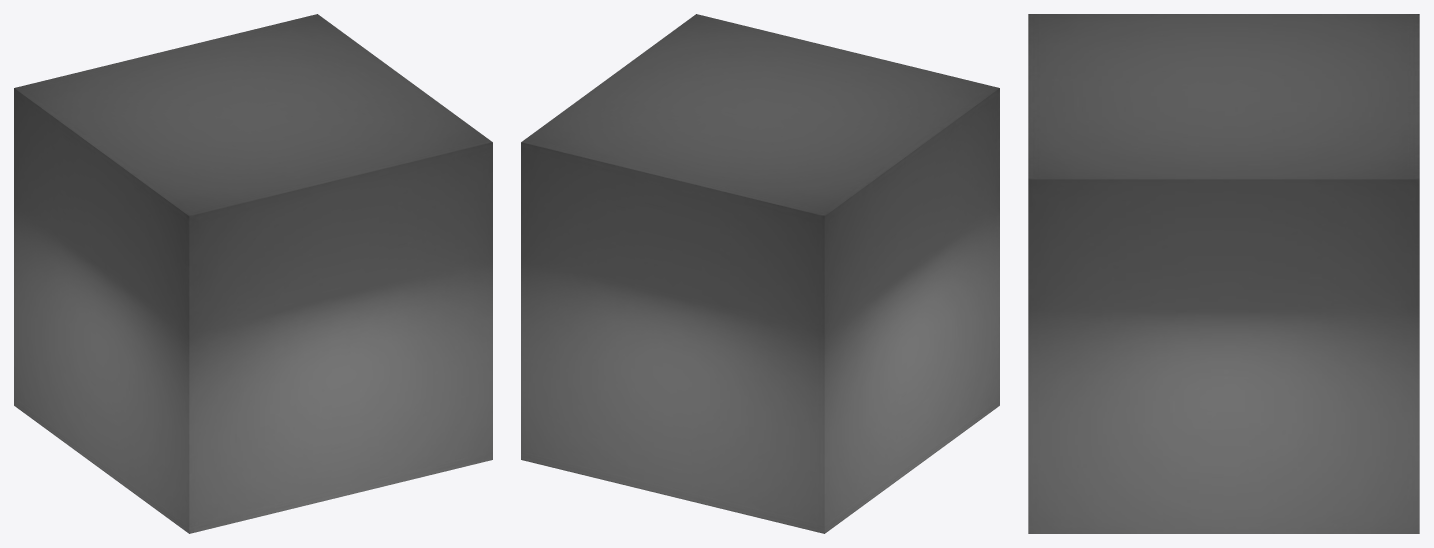
File: Light_bake_test.glb
The picture shows the model from 3 angles, left to right: view 1: azimuth 30°, elevation 25°; view 2: azimuth 150°, elevation 25°; view 3: azimuth 270°, elevation 25°; orthographic projection. The views are drawn at different scales.
Parts seen in each view (by area): view 1: Cube; view 2: Cube; view 3: Cube.
Part boxes in pixels (x1,y1,x2,y2): Cube: (14, 14, 492, 533); Cube: (521, 14, 999, 533); Cube: (1028, 14, 1419, 533).
Size of the model in its own units: 2 by 2 by 2.
Materials: 2 (2 with a texture image).
